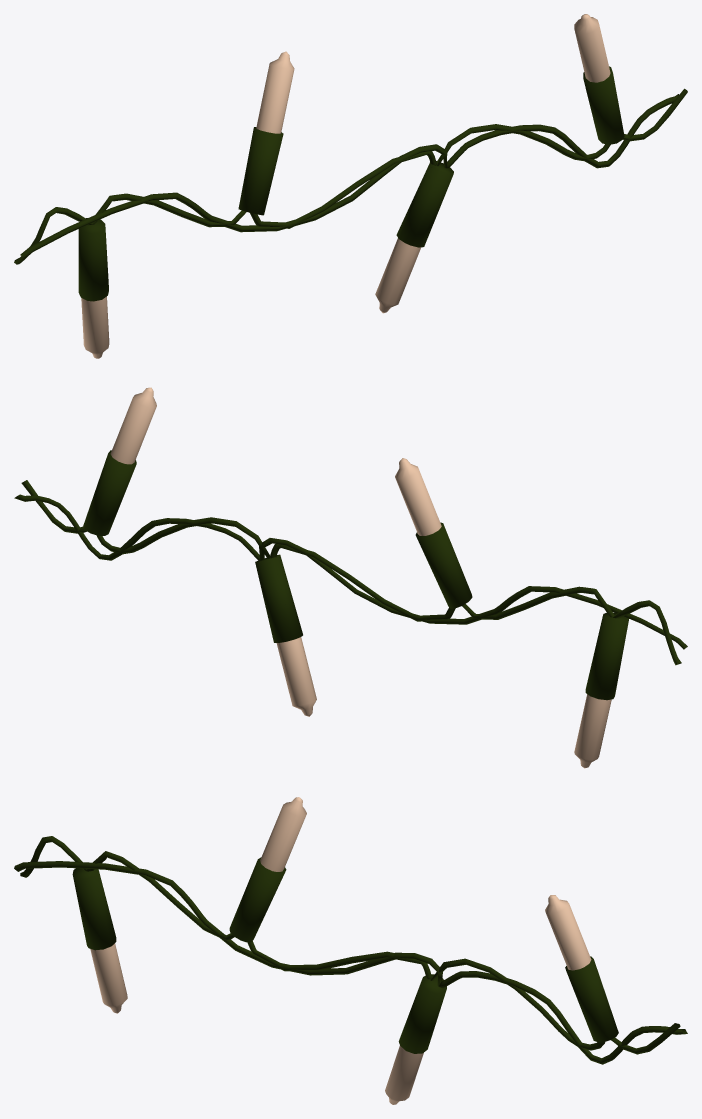
Rendered from lights.fbx.
3 renders of one model, top to bottom at view 1: azimuth 30°, elevation 25°; view 2: azimuth 150°, elevation 25°; view 3: azimuth 330°, elevation 25°, orthographic.
Parts seen in each view (by area): view 1: clights_classic; view 2: clights_classic; view 3: clights_classic.
Boxes of the visible parts, x1,y1,x2,y2 form: clights_classic: [14, 14, 687, 358]; clights_classic: [14, 387, 687, 768]; clights_classic: [14, 797, 687, 1104].
Size of the model in its own units: 149 by 60.48 by 13.99.
